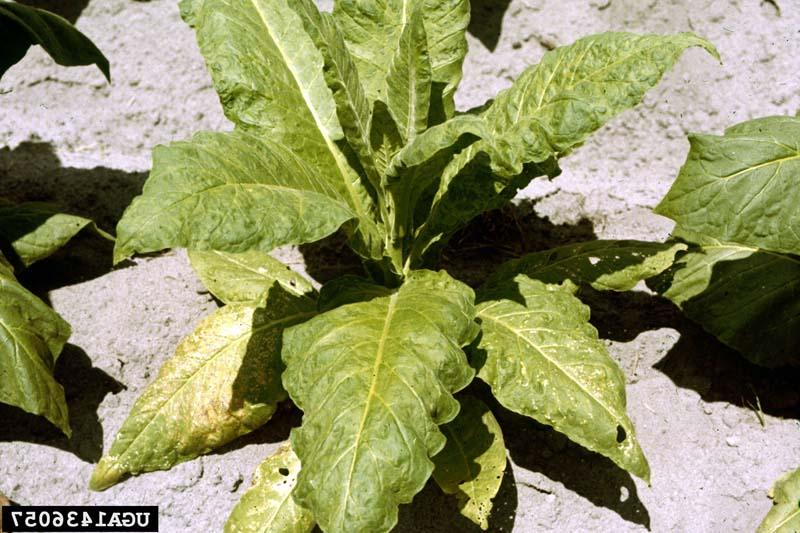Tomato leaf mosaic virus: (415, 28, 727, 239), (277, 271, 483, 533), (479, 252, 645, 460), (105, 144, 344, 265)
